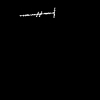treble_crochet: (20, 10, 54, 16)
